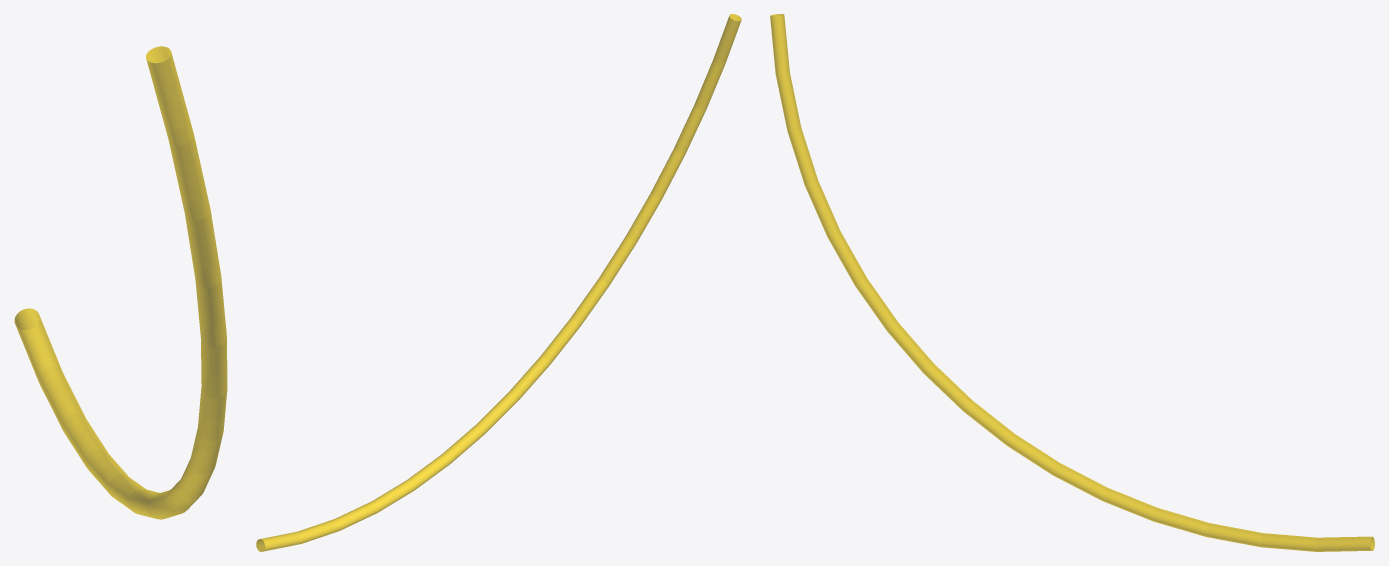
The model's file is Event_40932208_track_4.fbx.
3 renders of one model, left to right at view 1: azimuth 30°, elevation 25°; view 2: azimuth 150°, elevation 25°; view 3: azimuth 270°, elevation 25°, orthographic. The views are drawn at different scales.
Parts seen in each view (by area): view 1: Model; view 2: Model; view 3: Model.
Part boxes in pixels (x1,y1,x2,y2): Model: [14, 46, 227, 519]; Model: [256, 14, 741, 551]; Model: [770, 14, 1374, 551].
Bounding box in the file's own units: 0.7619 × 1.34 × 1.68.
